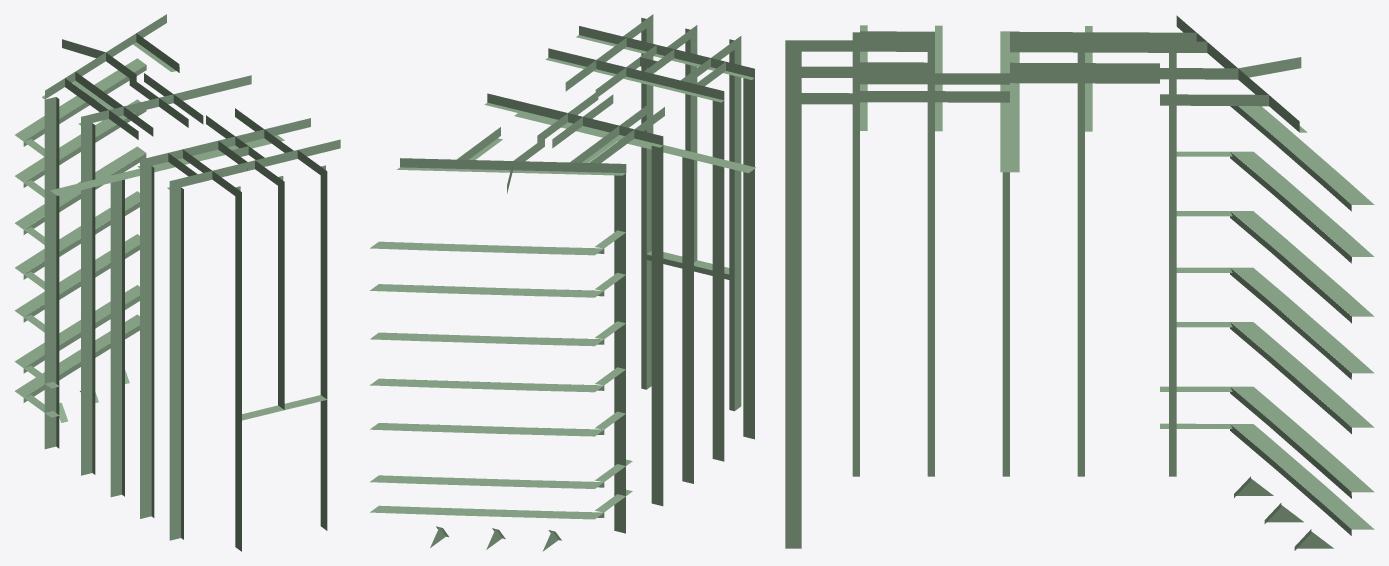
The model's file is PAINTING_AND_SMALL_REPAIR.glb.
The picture shows the model from 3 angles, left to right: view 1: azimuth 30°, elevation 25°; view 2: azimuth 150°, elevation 25°; view 3: azimuth 270°, elevation 25°; orthographic projection. The views are drawn at different scales.
Visible parts, largest first — view 1: ST_SideTransxFRBPxWeb_021001-IA_200x90x9x14_NVA_1993, ST_SideTransxFRBPxWeb_017001-IA_200x90x9x14_NVA_1993, ST_SideTransxFRBPxWeb_018001-IA_200x90x9x14_NVA_1993, ST_SideTransxFRBPxWeb_020001-IA_200x90x9x14_NVA_1993, ST_SideTransxFRBPxWeb_019001-IA_200x90x9x14_NVA_1993, ST_No8LBHDxAPTPxWeb_003001-IA_200x90x9x14_NVA_1993, ST_No8LBHDxAPTPxWeb_023001-IA_200x90x9x14_NVA_1993, ST_No8LBHDxAPTPxWeb_012001-IA_200x90x9x14_NVA_1993, ST_UDxAPTPxDL09xWeb_045003-IA_150x90x12x12_NVA_1993, ST_UDxAPTPxDL12xWeb_040003-IA_150x90x12x12_NVA_1993, ST_UDxAPTPxDL10xWeb_044003-IA_150x90x12x12_NVA_1993, FP_No11SectionxAPTP_001003-T_230x18_NVA36_2014 (+33 smaller); view 2: ST_SideTransxFRBPxWeb_020001-IA_200x90x9x14_NVA_1993, ST_SideTransxFRBPxWeb_018001-IA_200x90x9x14_NVA_1993, ST_SideTransxFRBPxWeb_017001-IA_200x90x9x14_NVA_1993, ST_SideTransxFRBPxWeb_021001-IA_200x90x9x14_NVA_1993, ST_SideTransxFRBPxWeb_019001-IA_200x90x9x14_NVA_1993, ST_UDxAPTPxDL30xWeb_057003-IA_150x90x12x12_NVA_1993, ST_No8LBHDxAPTPxWeb_023001-IA_200x90x9x14_NVA_1993, ST_OuterShellxAPTPxL57xWeb_001003-IA_265x90x10x15_NVA32_1993, ST_OuterShellxAPTPxL60A1xWeb_001003-IA_265x90x10x15_NVA32_19, ST_OuterShellxAPTPxL58xWeb_001003-IA_265x90x10x15_NVA32_1993, ST_OuterShellxAPTPxL60xWeb_001003-IA_265x90x10x15_NVA32_1993, ST_OuterShellxAPTPxL60A2xWeb_001003-IA_265x90x10x15_NVA32_19 (+27 smaller); view 3: ST_No8LBHDxAPTPxWeb_003001-IA_200x90x9x14_NVA_1993, ST_OuterShellxAPTPxL57xWeb_001003-IA_265x90x10x15_NVA32_1993, ST_OuterShellxAPTPxL59xWeb_001003-IA_265x90x10x15_NVA32_1993, ST_OuterShellxAPTPxL58xWeb_001003-IA_265x90x10x15_NVA32_1993, ST_OuterShellxAPTPxL60xWeb_001003-IA_265x90x10x15_NVA32_1993, ST_OuterShellxAPTPxL56xWeb_001003-IA_265x90x10x15_NVA32_1993, ST_OuterShellxAPTPxL60A1xWeb_001003-IA_265x90x10x15_NVA32_19, ST_SideTransxFRBPxFLG_017001-IA_200x90x9x14_NVA_1993, ST_SideTransxFRBPxFLG_020001-IA_200x90x9x14_NVA_1993, ST_SideTransxFRBPxFLG_021001-IA_200x90x9x14_NVA_1993, ST_OuterShellxAPTPxL60A2xWeb_001003-IA_265x90x10x15_NVA32_19, ST_SideTransxFRBPxFLG_018001-IA_200x90x9x14_NVA_1993 (+34 smaller).
Part boxes in pixels (x1=…): ST_SideTransxFRBPxWeb_021001-IA_200x90x9x14_NVA_1993: x1=44, y1=97, x2=56, y2=368; ST_SideTransxFRBPxWeb_017001-IA_200x90x9x14_NVA_1993: x1=169, y1=187, x2=180, y2=459; ST_SideTransxFRBPxWeb_018001-IA_200x90x9x14_NVA_1993: x1=140, y1=166, x2=151, y2=438; ST_SideTransxFRBPxWeb_020001-IA_200x90x9x14_NVA_1993: x1=81, y1=123, x2=92, y2=395; ST_SideTransxFRBPxWeb_019001-IA_200x90x9x14_NVA_1993: x1=110, y1=180, x2=121, y2=416; ST_No8LBHDxAPTPxWeb_003001-IA_200x90x9x14_NVA_1993: x1=320, y1=167, x2=327, y2=450; ST_No8LBHDxAPTPxWeb_023001-IA_200x90x9x14_NVA_1993: x1=235, y1=187, x2=241, y2=471; ST_No8LBHDxAPTPxWeb_012001-IA_200x90x9x14_NVA_1993: x1=278, y1=177, x2=284, y2=409; ST_UDxAPTPxDL09xWeb_045003-IA_150x90x12x12_NVA_1993: x1=169, y1=139, x2=340, y2=189; ST_UDxAPTPxDL12xWeb_040003-IA_150x90x12x12_NVA_1993: x1=81, y1=75, x2=251, y2=125; ST_UDxAPTPxDL10xWeb_044003-IA_150x90x12x12_NVA_1993: x1=140, y1=118, x2=310, y2=168; FP_No11SectionxAPTP_001003-T_230x18_NVA36_2014: x1=50, y1=135, x2=284, y2=195; ST_SideTransxFRBPxWeb_020001-IA_200x90x9x14_NVA_1993: x1=651, y1=146, x2=663, y2=423; ST_SideTransxFRBPxWeb_018001-IA_200x90x9x14_NVA_1993: x1=712, y1=100, x2=724, y2=378; ST_SideTransxFRBPxWeb_017001-IA_200x90x9x14_NVA_1993: x1=743, y1=78, x2=754, y2=356; ST_SideTransxFRBPxWeb_021001-IA_200x90x9x14_NVA_1993: x1=614, y1=173, x2=625, y2=450; ST_SideTransxFRBPxWeb_019001-IA_200x90x9x14_NVA_1993: x1=682, y1=157, x2=693, y2=400; ST_UDxAPTPxDL30xWeb_057003-IA_150x90x12x12_NVA_1993: x1=400, y1=158, x2=626, y2=173; ST_No8LBHDxAPTPxWeb_023001-IA_200x90x9x14_NVA_1993: x1=734, y1=36, x2=741, y2=327; ST_OuterShellxAPTPxL57xWeb_001003-IA_265x90x10x15_NVA32_1993: x1=370, y1=475, x2=603, y2=488; ST_OuterShellxAPTPxL60A1xWeb_001003-IA_265x90x10x15_NVA32_19: x1=370, y1=284, x2=603, y2=297; ST_OuterShellxAPTPxL58xWeb_001003-IA_265x90x10x15_NVA32_1993: x1=370, y1=423, x2=603, y2=436; ST_OuterShellxAPTPxL60xWeb_001003-IA_265x90x10x15_NVA32_1993: x1=370, y1=332, x2=603, y2=346; ST_OuterShellxAPTPxL60A2xWeb_001003-IA_265x90x10x15_NVA32_19: x1=370, y1=241, x2=603, y2=255; ST_No8LBHDxAPTPxWeb_003001-IA_200x90x9x14_NVA_1993: x1=785, y1=93, x2=801, y2=446; ST_OuterShellxAPTPxL57xWeb_001003-IA_265x90x10x15_NVA32_1993: x1=1230, y1=386, x2=1374, y2=492; ST_OuterShellxAPTPxL59xWeb_001003-IA_265x90x10x15_NVA32_1993: x1=1230, y1=267, x2=1374, y2=373; ST_OuterShellxAPTPxL58xWeb_001003-IA_265x90x10x15_NVA32_1993: x1=1230, y1=322, x2=1374, y2=427; ST_OuterShellxAPTPxL60xWeb_001003-IA_265x90x10x15_NVA32_1993: x1=1230, y1=211, x2=1374, y2=316; ST_OuterShellxAPTPxL56xWeb_001003-IA_265x90x10x15_NVA32_1993: x1=1230, y1=424, x2=1374, y2=529; ST_OuterShellxAPTPxL60A1xWeb_001003-IA_265x90x10x15_NVA32_19: x1=1231, y1=151, x2=1374, y2=256; ST_SideTransxFRBPxFLG_017001-IA_200x90x9x14_NVA_1993: x1=852, y1=32, x2=859, y2=374; ST_SideTransxFRBPxFLG_020001-IA_200x90x9x14_NVA_1993: x1=1077, y1=52, x2=1084, y2=374; ST_SideTransxFRBPxFLG_021001-IA_200x90x9x14_NVA_1993: x1=1169, y1=53, x2=1176, y2=374; ST_OuterShellxAPTPxL60A2xWeb_001003-IA_265x90x10x15_NVA32_19: x1=1238, y1=106, x2=1374, y2=204; ST_SideTransxFRBPxFLG_018001-IA_200x90x9x14_NVA_1993: x1=927, y1=52, x2=934, y2=374.
Size of the model in its own units: 4 by 6.04 by 7.08.
